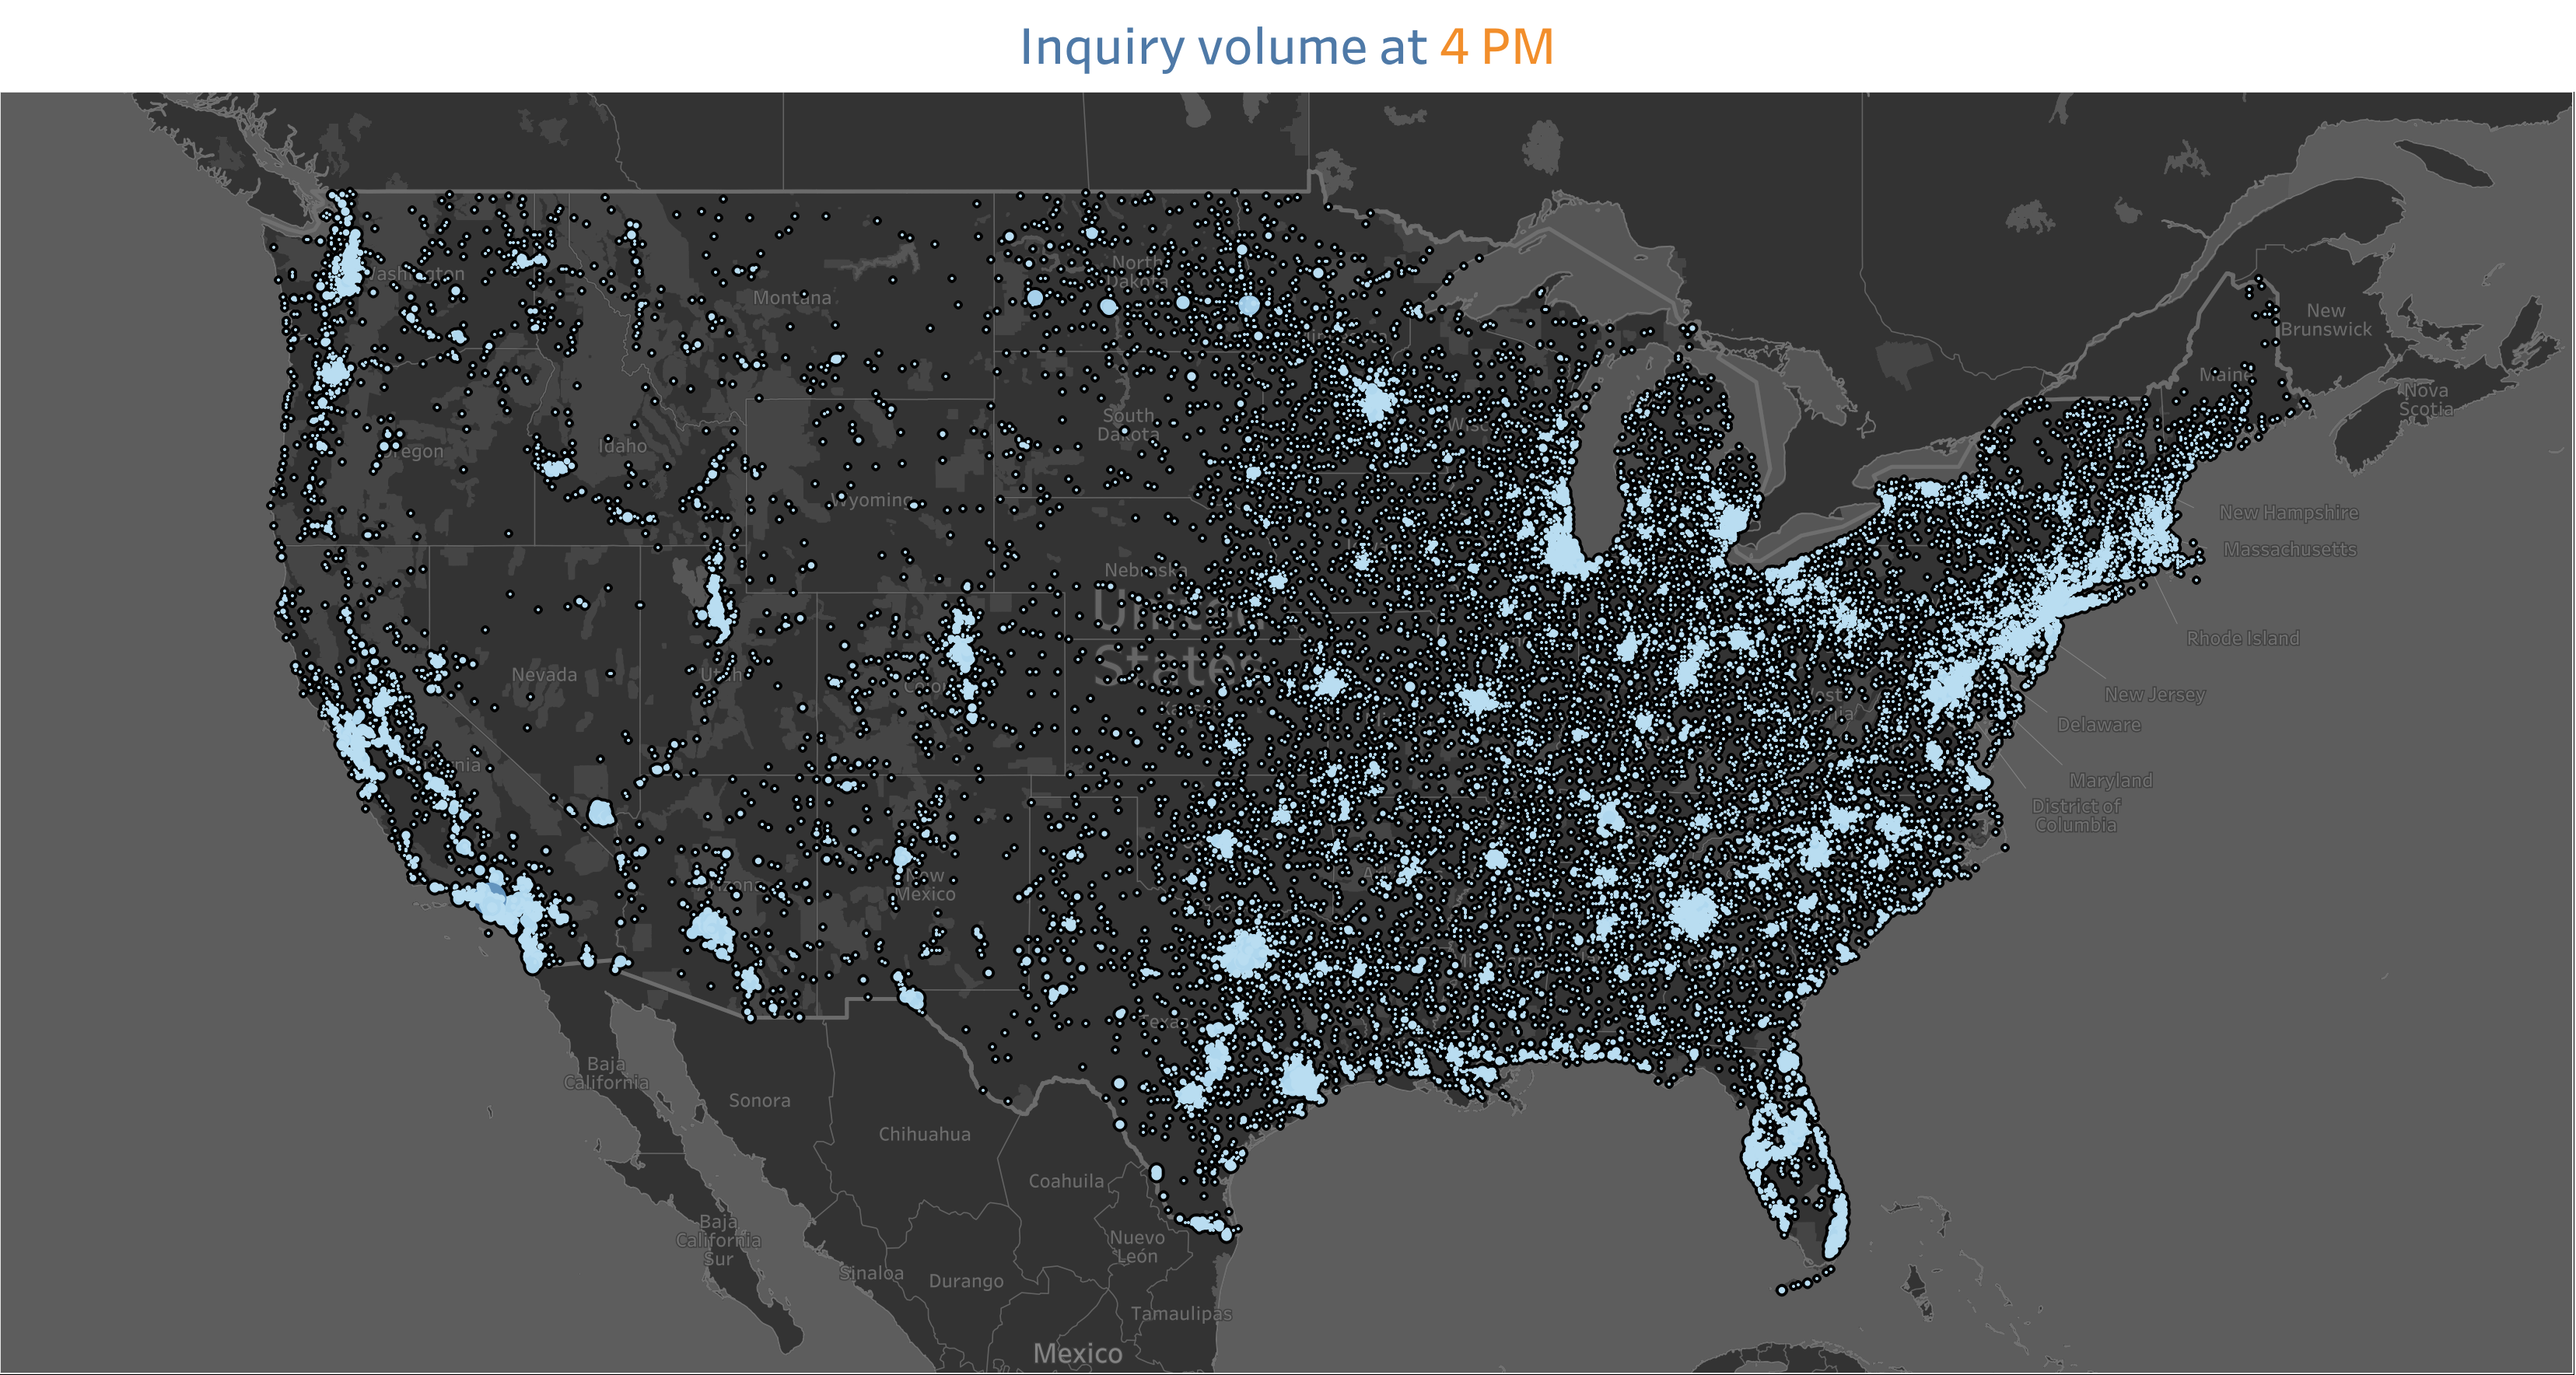

The dashboard page shown, as its layout file describes it:
{"tool":"tableau","page":{"name":"Dashboard 1","canvas":[1000,1000],"units":"permille","ordinal":0},"visuals":[{"type":"worksheet","title":"Sheet 1","mark":"Automatic","box":[4.7,8.8,990.6,982.3]},{"type":"currpage","title":"Sheet 1","box":[883,30.9,87.8,105]}]}

Visuals, with their boxes on the dashboard's canvas, which has no fixed pixel size, in thousandths of its width and height (x1, y1, x2, y2). These are canvas units, not pixel positions in the 2576x1375 screenshot, which may show the page scaled, cropped or inside an application window:
"Sheet 1" worksheet: BBox(5, 9, 995, 991)
"Sheet 1" currpage: BBox(883, 31, 971, 136)
